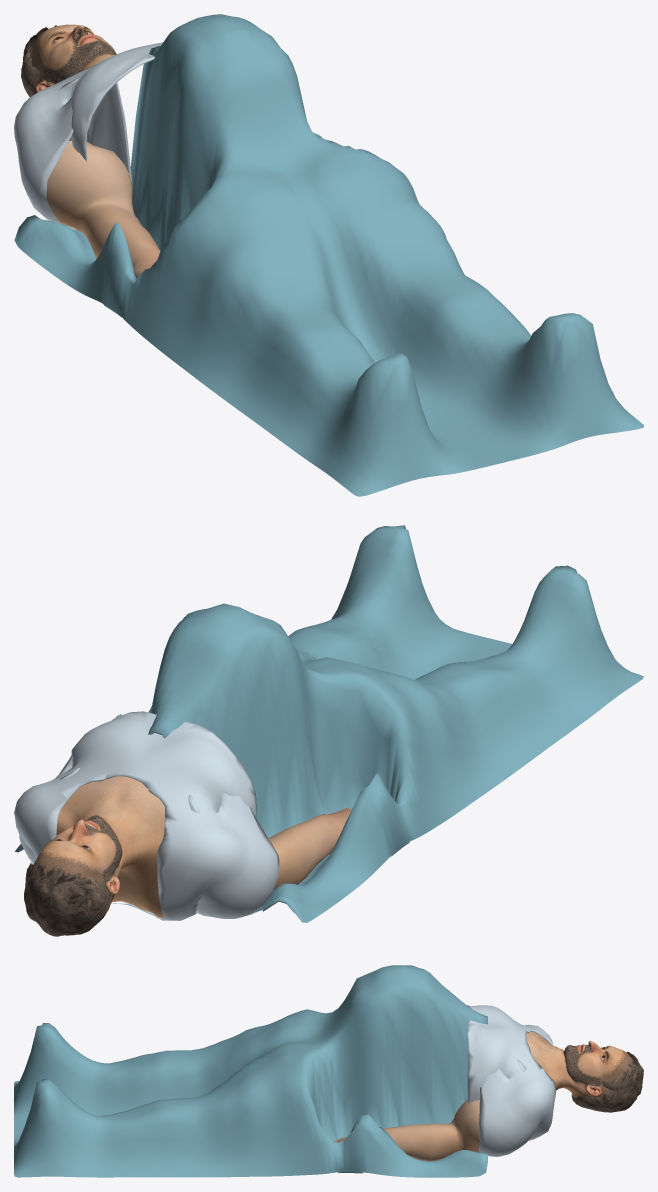
The picture shows the model from 3 angles, top to bottom: view 1: azimuth 30°, elevation 25°; view 2: azimuth 150°, elevation 25°; view 3: azimuth 270°, elevation 25°; orthographic projection. The views are drawn at different scales.
Visible parts, largest first — view 1: sheet, gown, arms, body, hair; view 2: sheet, gown, body, hair, arms; view 3: sheet, gown, body, arms, hair.
Boxes of the visible parts, x1,y1,x2,y2 form: sheet: (14, 14, 643, 496); gown: (14, 42, 162, 229); arms: (46, 140, 160, 278); body: (30, 24, 116, 92); hair: (21, 25, 57, 96); sheet: (15, 525, 643, 922); gown: (14, 711, 279, 920); body: (36, 776, 165, 918); hair: (24, 860, 114, 936); arms: (267, 808, 351, 889); sheet: (14, 965, 487, 1177); gown: (467, 1005, 556, 1156); body: (526, 1031, 633, 1098); arms: (333, 1099, 479, 1161); hair: (571, 1051, 643, 1112).
Size of the model in its own units: 0.7081 by 0.5529 by 1.95.
8 materials, 6 textured.
